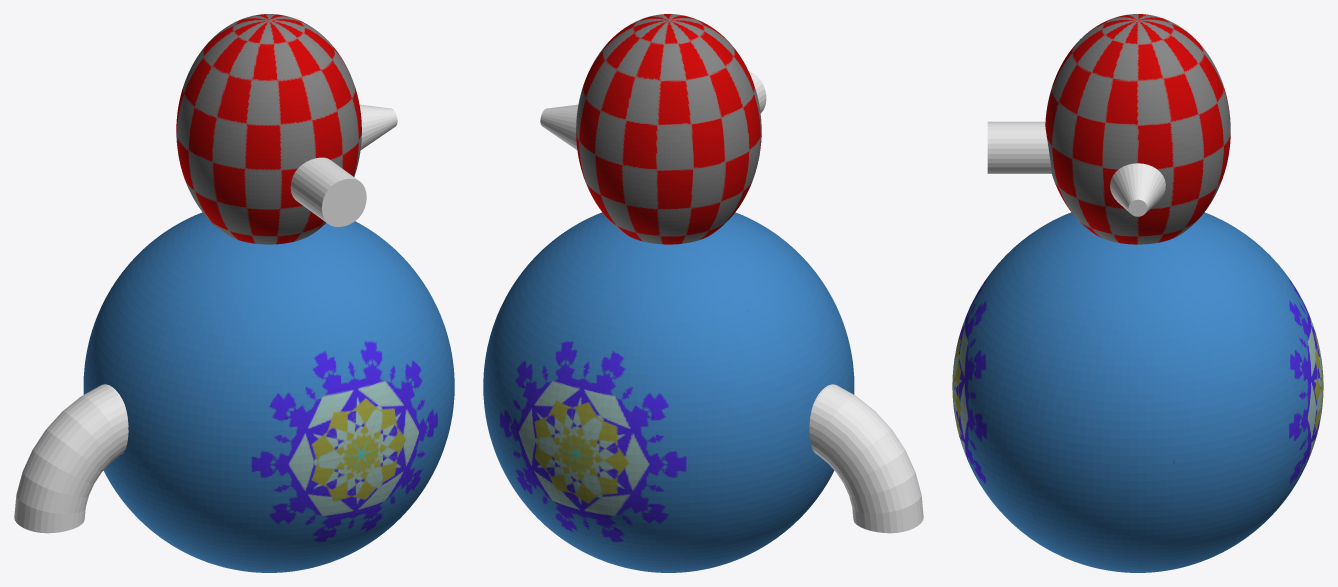
File: BOD0_BMC4_BCC8_BPT0_FRC14_HEA2_HMC0_HCC4_HPT4_ELT0_ERT2_ELL1_ERL2_AP1_AAL2_AAR0_BEK1.fbx
3 renders of one model, left to right at view 1: azimuth 30°, elevation 25°; view 2: azimuth 150°, elevation 25°; view 3: azimuth 270°, elevation 25°, orthographic.
Visible parts, largest first — view 1: Body, Arm, Beak, Ear; view 2: Body, Arm, Ear; view 3: Body, Beak, Ear.
Boxes of the visible parts, x1,y1,x2,y2 form: Body: (83, 14, 454, 572); Arm: (14, 384, 128, 533); Beak: (290, 157, 366, 226); Ear: (359, 104, 397, 149); Body: (483, 14, 854, 572); Arm: (809, 384, 923, 533); Ear: (540, 104, 578, 149); Body: (952, 14, 1323, 572); Beak: (987, 121, 1051, 173); Ear: (1110, 163, 1165, 216).
Bounding box in the file's own units: 62.99 × 78.65 × 49.36.
Materials: 1 (1 with a texture image).
